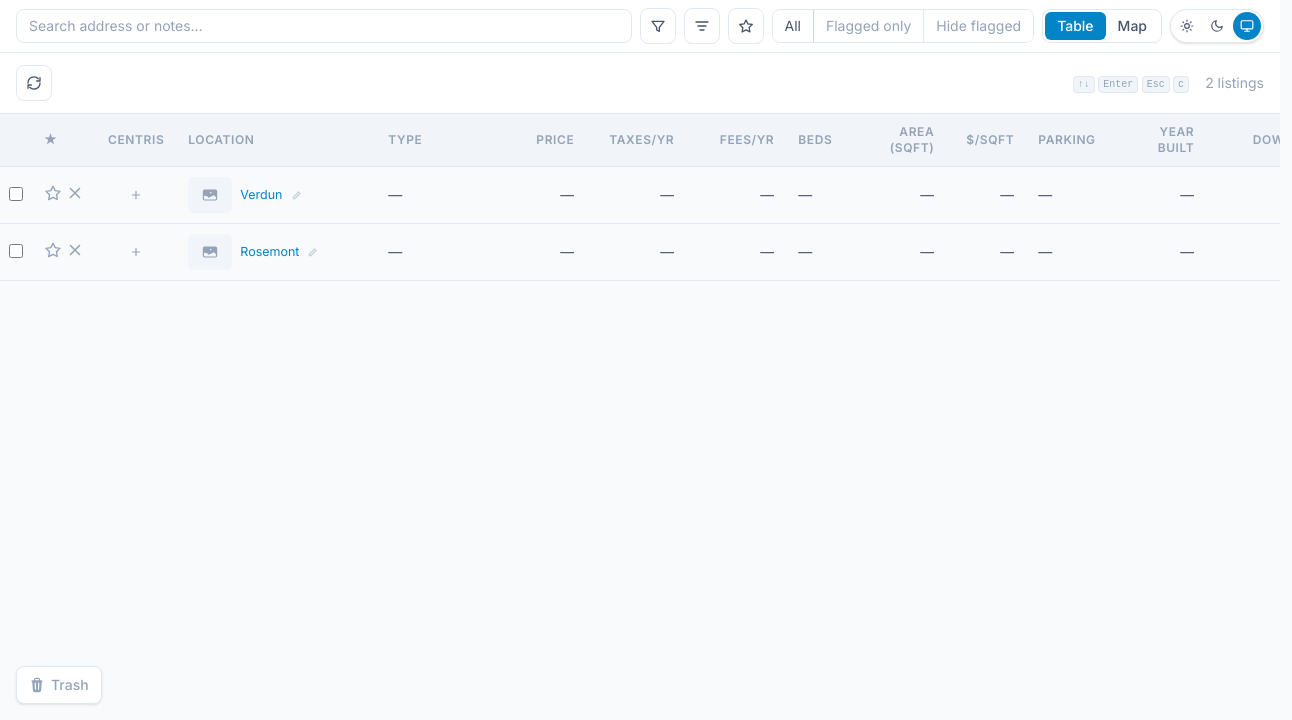
Test: / search bar › shows a no-match message when nothing matches
The image size is (1292, 720).
Type "zzzzz" into the field with placeholder "Search address or notes…" at (324, 26), box [16,9,632,43]
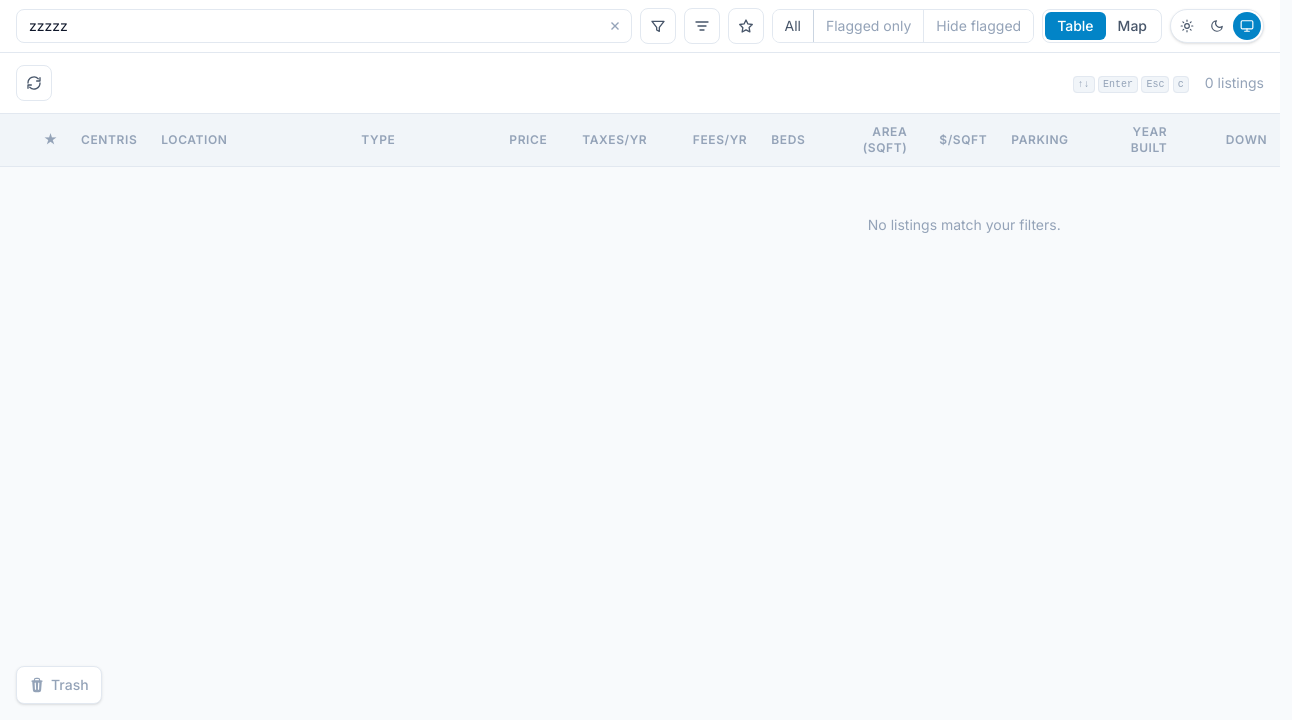
Expected: the text "No listings match your filters." is shown, [0,166,1280,283]
